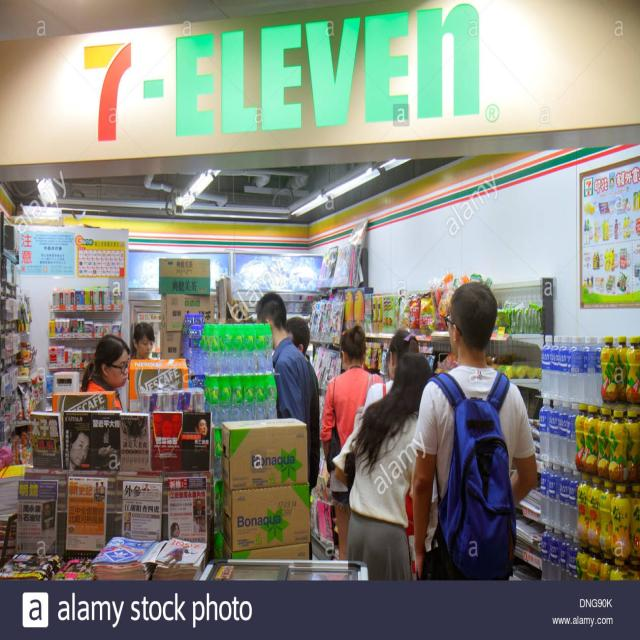body: (410, 280, 539, 581), (329, 350, 434, 581), (357, 326, 421, 580), (321, 322, 384, 560), (252, 288, 315, 488), (79, 333, 132, 412), (283, 316, 320, 408), (1, 554, 96, 578), (160, 540, 196, 572), (130, 322, 156, 361), (73, 431, 89, 467), (192, 497, 206, 533), (40, 500, 56, 530), (193, 416, 209, 444), (122, 516, 132, 540), (93, 480, 105, 499), (171, 519, 181, 539), (16, 539, 23, 552), (135, 538, 144, 548), (143, 482, 150, 492)
